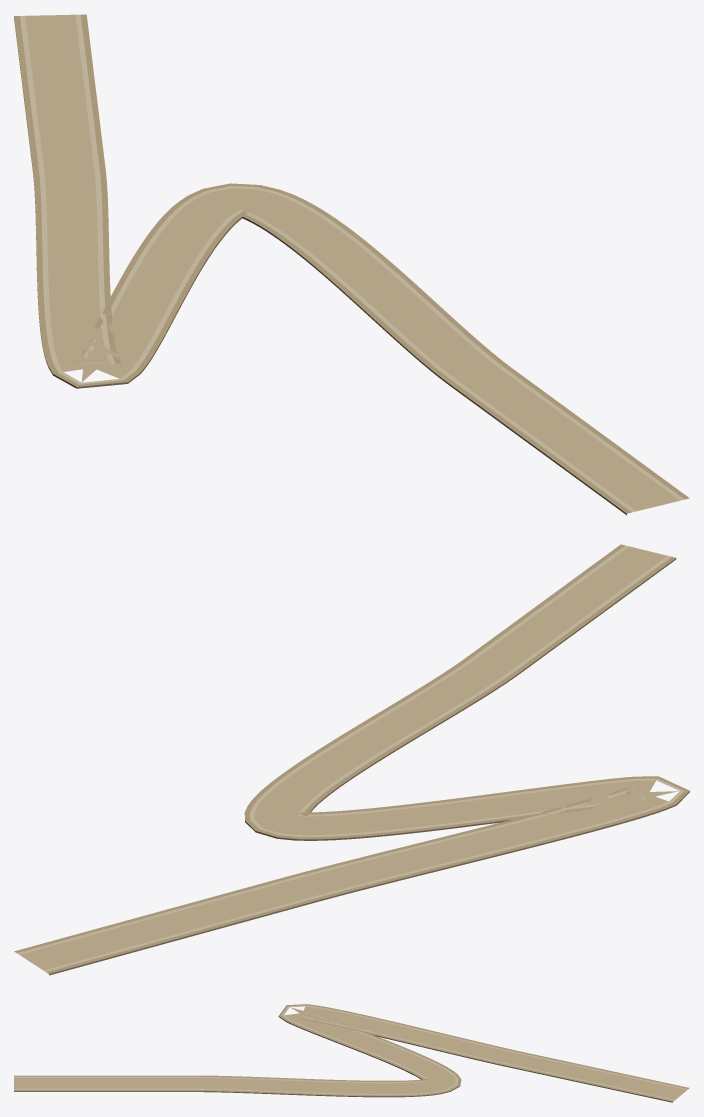
File: road_roam_to_stage_canyon.glb
3 renders of one model, top to bottom at view 1: azimuth 30°, elevation 25°; view 2: azimuth 150°, elevation 25°; view 3: azimuth 270°, elevation 25°, orthographic. The views are drawn at different scales.
Visible parts, largest first — view 1: road; view 2: road; view 3: road.
Part boxes in pixels (x1,y1,x2,y2): road: [14, 14, 689, 515]; road: [14, 544, 689, 975]; road: [14, 1004, 689, 1102].
Bounding box in the file's own units: 74.87 × 0.32 × 219.
